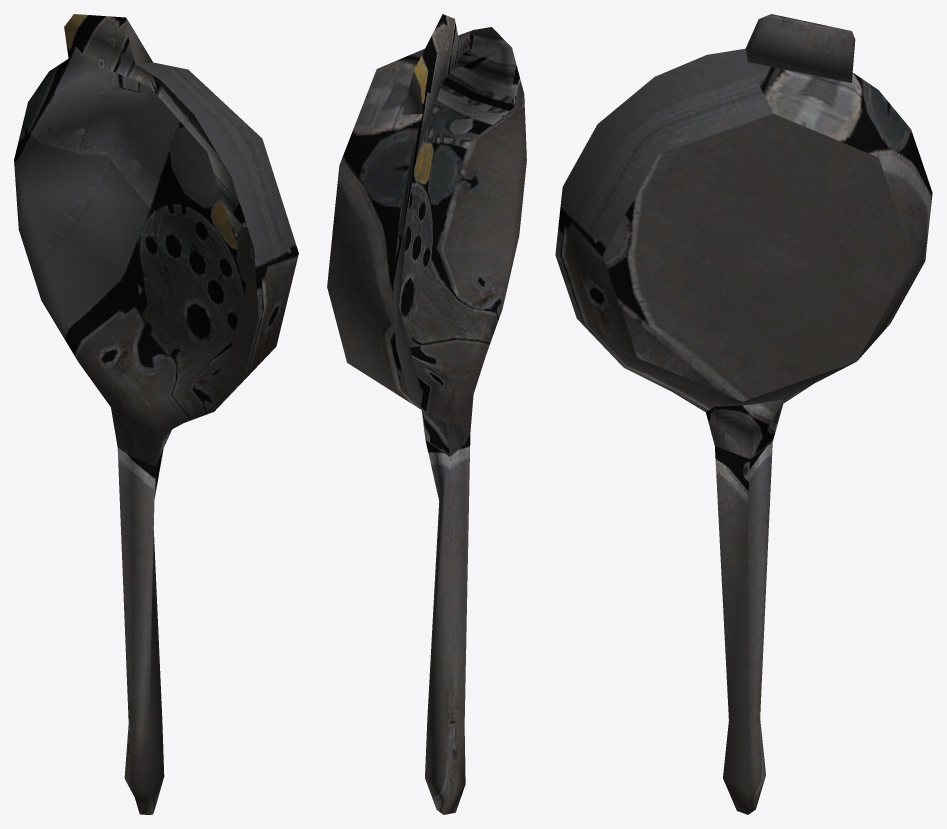
The model's file is Melee_Prop_Cylinder_lod1_LOD_(000604).glb.
The picture shows the model from 3 angles, left to right: view 1: azimuth 30°, elevation 25°; view 2: azimuth 150°, elevation 25°; view 3: azimuth 270°, elevation 25°; orthographic projection. The views are drawn at different scales.
Parts seen in each view (by area): view 1: Cylinder_lod1; view 2: Cylinder_lod1; view 3: Cylinder_lod1.
Part boxes in pixels (left/top/right/bottom): Cylinder_lod1: left=14, top=14, right=298, bottom=814; Cylinder_lod1: left=327, top=14, right=526, bottom=814; Cylinder_lod1: left=555, top=14, right=932, bottom=814.
Bounding box in the file's own units: 0.1267 × 0.791 × 0.3397.
1 material, 1 textured.
